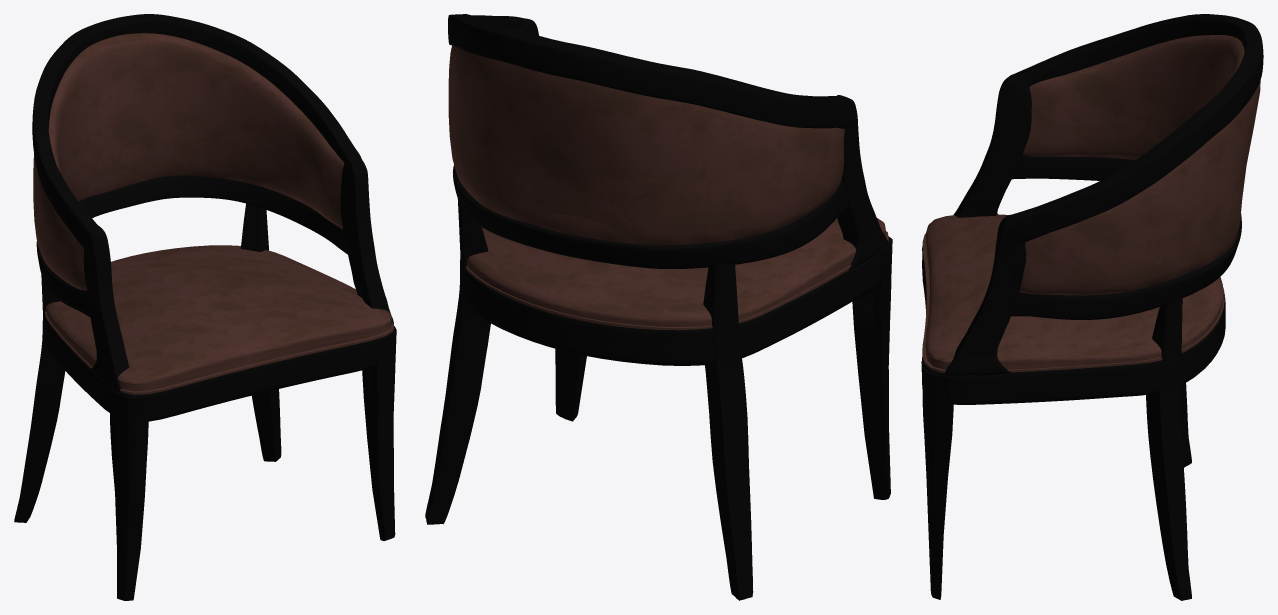
File: example28.glb
The picture shows the model from 3 angles, left to right: view 1: azimuth 30°, elevation 25°; view 2: azimuth 150°, elevation 25°; view 3: azimuth 270°, elevation 25°; orthographic projection. The views are drawn at different scales.
Visible parts, largest first — view 1: Torus, Cube_2, Symmetry, Cube_2_2, Cube, Torus_2, Cube_1; view 2: Torus, Cube_2_2, Cube_2, Cube, Symmetry, Torus_2, Cube_1; view 3: Torus, Symmetry, Cube_2, Cube_2_2, Cube, Torus_2, Cube_1.
Part boxes in pixels (bbox=[...]): Torus: bbox=[33, 33, 344, 290]; Cube_2: bbox=[46, 245, 391, 391]; Symmetry: bbox=[32, 14, 393, 392]; Cube_2_2: bbox=[44, 314, 396, 600]; Cube: bbox=[14, 203, 281, 522]; Torus_2: bbox=[36, 175, 347, 317]; Cube_1: bbox=[45, 311, 393, 394]; Torus: bbox=[448, 45, 844, 245]; Cube_2_2: bbox=[460, 236, 892, 499]; Cube_2: bbox=[467, 218, 885, 327]; Cube: bbox=[425, 198, 753, 600]; Symmetry: bbox=[448, 14, 888, 270]; Torus_2: bbox=[452, 165, 849, 268]; Cube_1: bbox=[465, 231, 888, 330]; Torus: bbox=[1019, 35, 1260, 295]; Symmetry: bbox=[945, 14, 1263, 375]; Cube_2: bbox=[925, 214, 1223, 369]; Cube_2_2: bbox=[921, 246, 1225, 599]; Cube: bbox=[1146, 298, 1191, 600]; Torus_2: bbox=[1011, 154, 1241, 319]; Cube_1: bbox=[922, 233, 1224, 372].
Bounding box in the file's own units: 0.4196 × 0.6307 × 0.4014.
4 materials, 3 textured.
